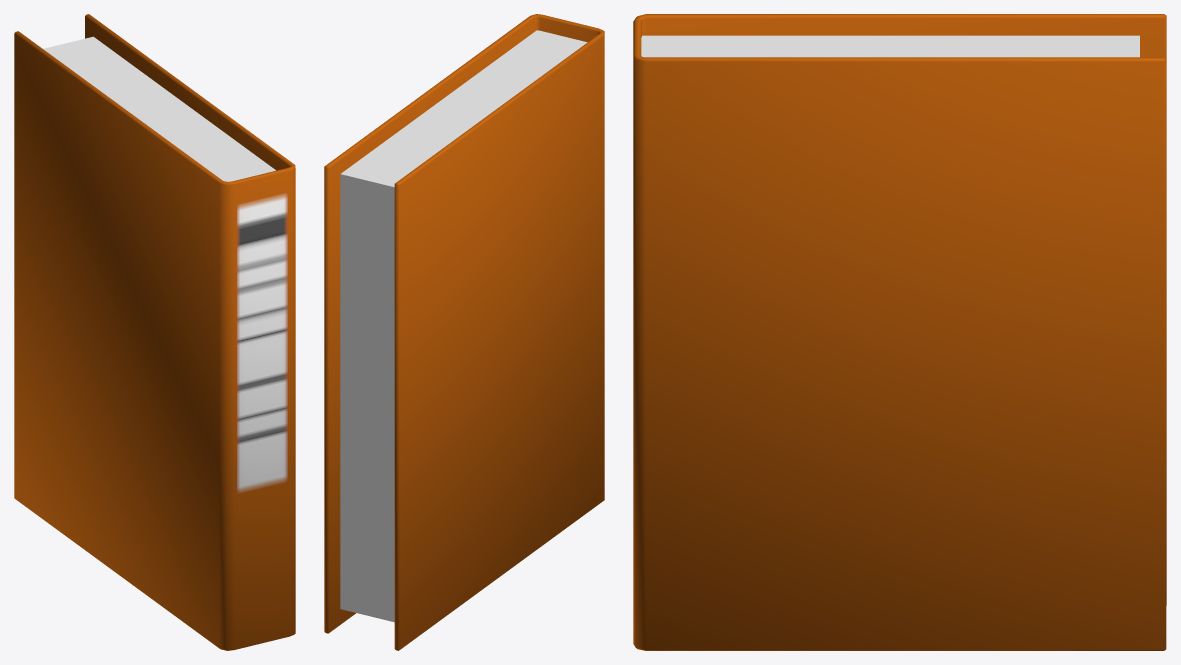
File: office folder8.FBX
The picture shows the model from 3 angles, left to right: view 1: azimuth 30°, elevation 25°; view 2: azimuth 150°, elevation 25°; view 3: azimuth 270°, elevation 25°; orthographic projection. The views are drawn at different scales.
Visible parts, largest first — view 1: office folder8; view 2: office folder8; view 3: office folder8.
Boxes of the visible parts, <box> form: office folder8: <box>14,14,295,650</box>; office folder8: <box>324,14,604,650</box>; office folder8: <box>633,14,1166,650</box>.
Size of the model in its own units: 1.78 by 8.57 by 10.5.
Materials: 1 (1 with a texture image).
